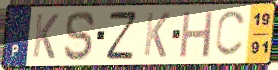C: (213, 9, 249, 59)
H: (177, 9, 216, 60)
K: (30, 12, 61, 61), (142, 10, 172, 60)
S: (62, 10, 97, 63)
Z: (105, 9, 139, 61)
